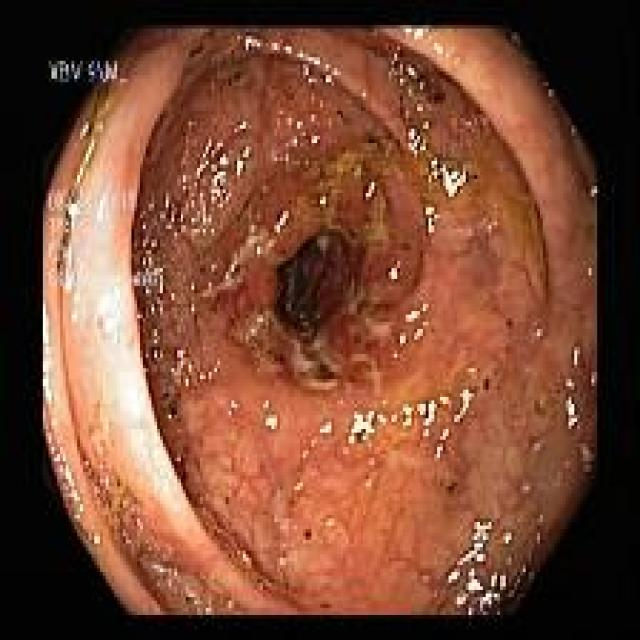ulcerative-colitis: (44, 28, 595, 615)
